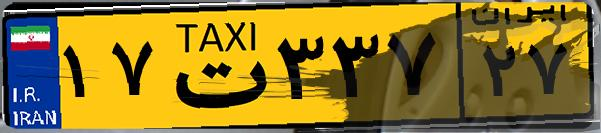1: (57, 26, 110, 100)
2: (475, 38, 525, 113)
3: (270, 28, 330, 110), (330, 28, 385, 110)
7: (385, 28, 445, 110), (525, 38, 570, 115), (110, 28, 158, 98)
ت: (158, 12, 270, 120)
